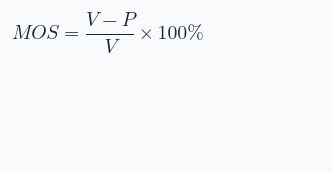
QuizFormulaPicture › ký hiệu nhập thẳng mở khung chỉ có dòng nghĩa — không bước, không liên kết
The image size is (332, 172).
Click the text "P" at [128, 19], box [122,12,134,26]
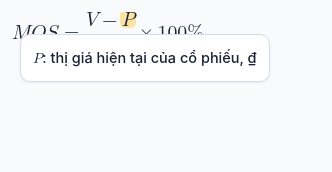
Expected: the element showing "P : thị giá hiện tại của cổ phiếu, ₫" is shown, [20,34,270,82]
